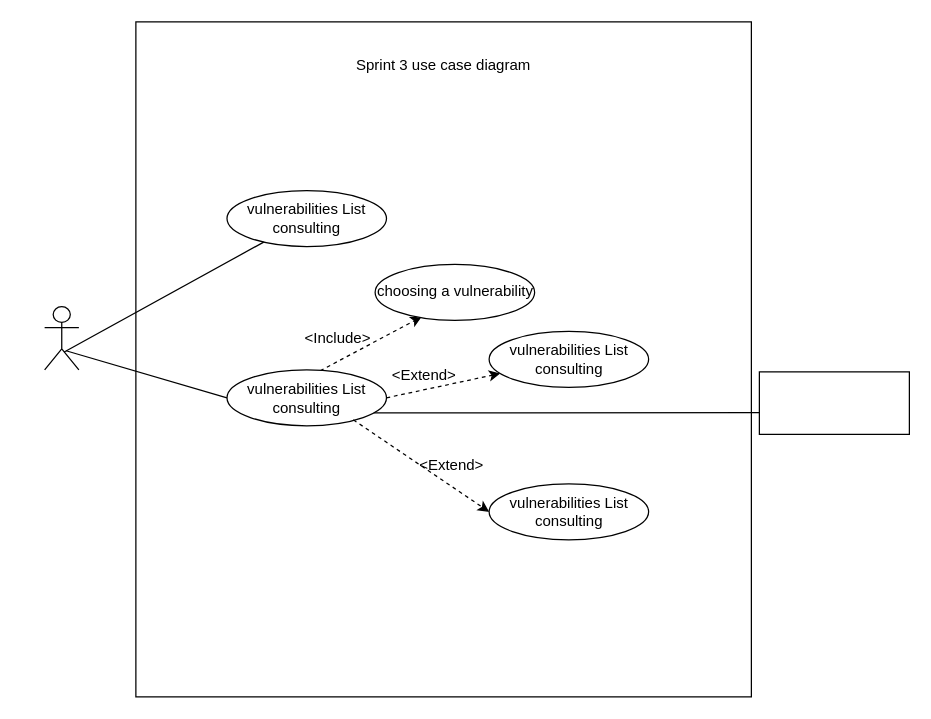
Image size: 931x719. Some labels were removed from this diagram. The box of each missing label's shape, as (x1, y1, x2, y2) in pixels:
Externel service (OLLAMA): (758, 371, 909, 434)
user: (43, 305, 79, 370)
